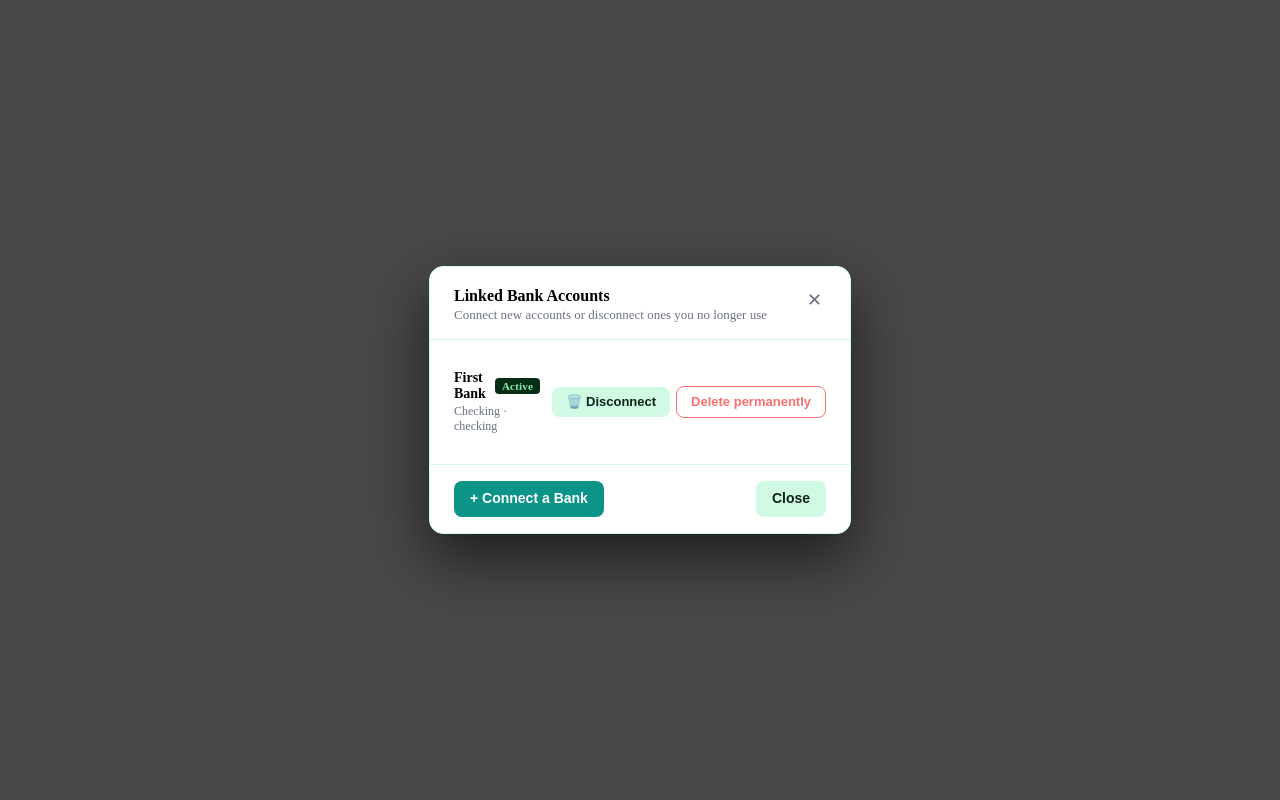
Test: dismisses status banner when ✕ is clicked
Click the button "+ Connect a Bank". click: (529,499)
box: [454,481,604,517]
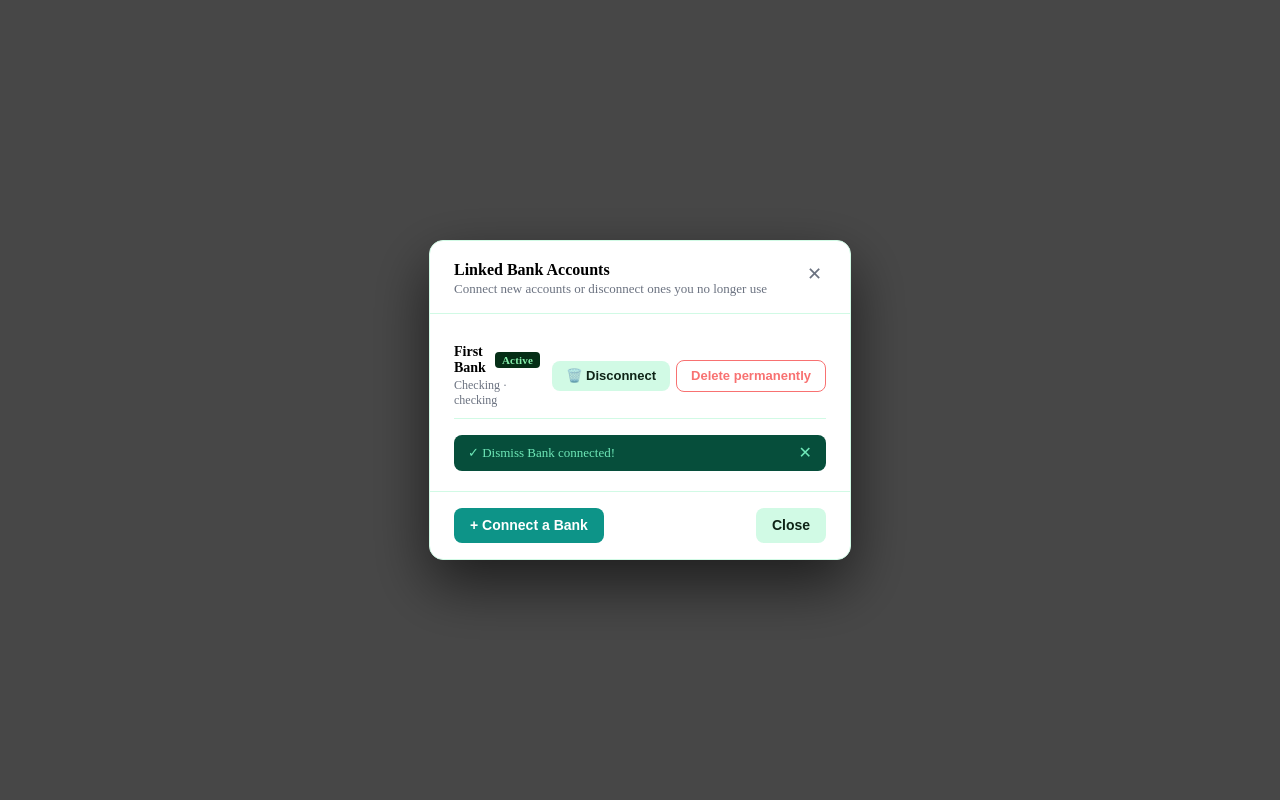
expect the text "✓ Dismiss Bank connected!" is shown: met, box [468,445,615,461]
Click the button named "Dismiss". click: (805,453)
box: [799,445,812,461]
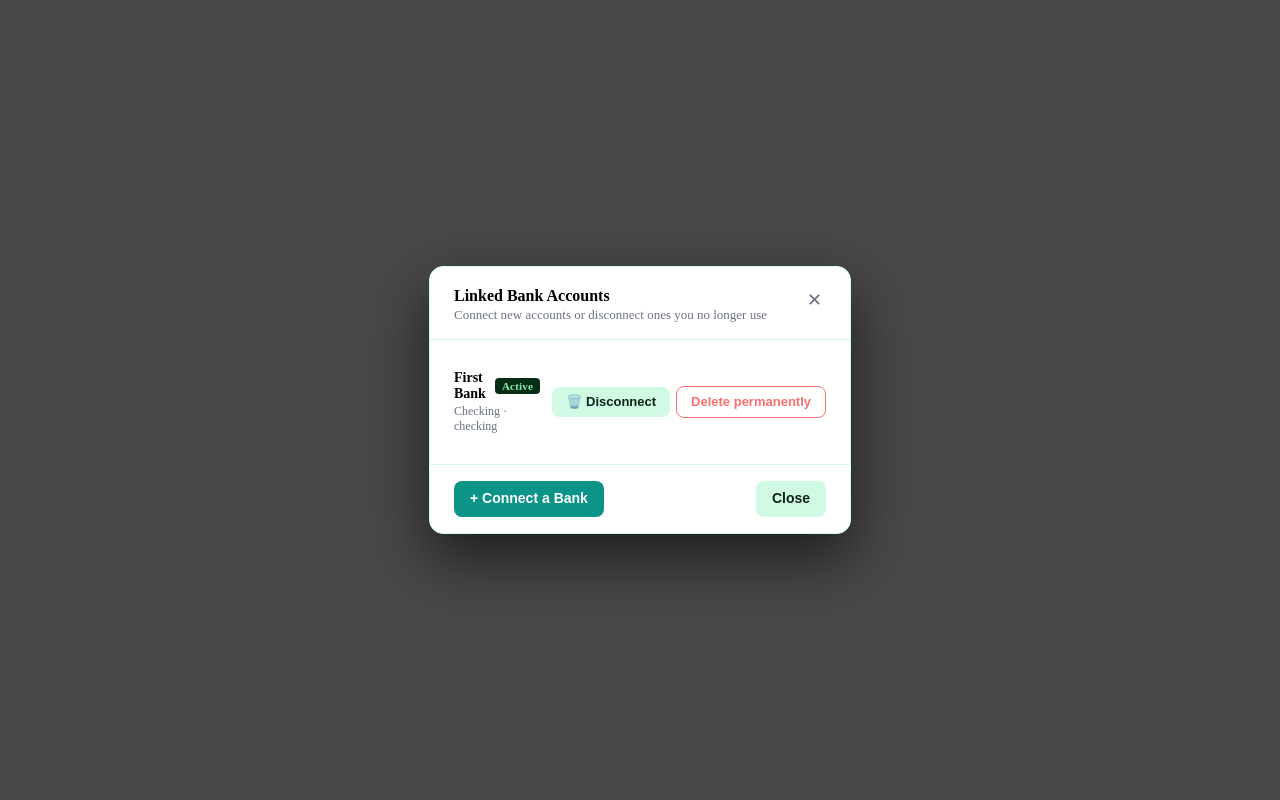
expect the text "Dismiss Bank connected" is gone: met
